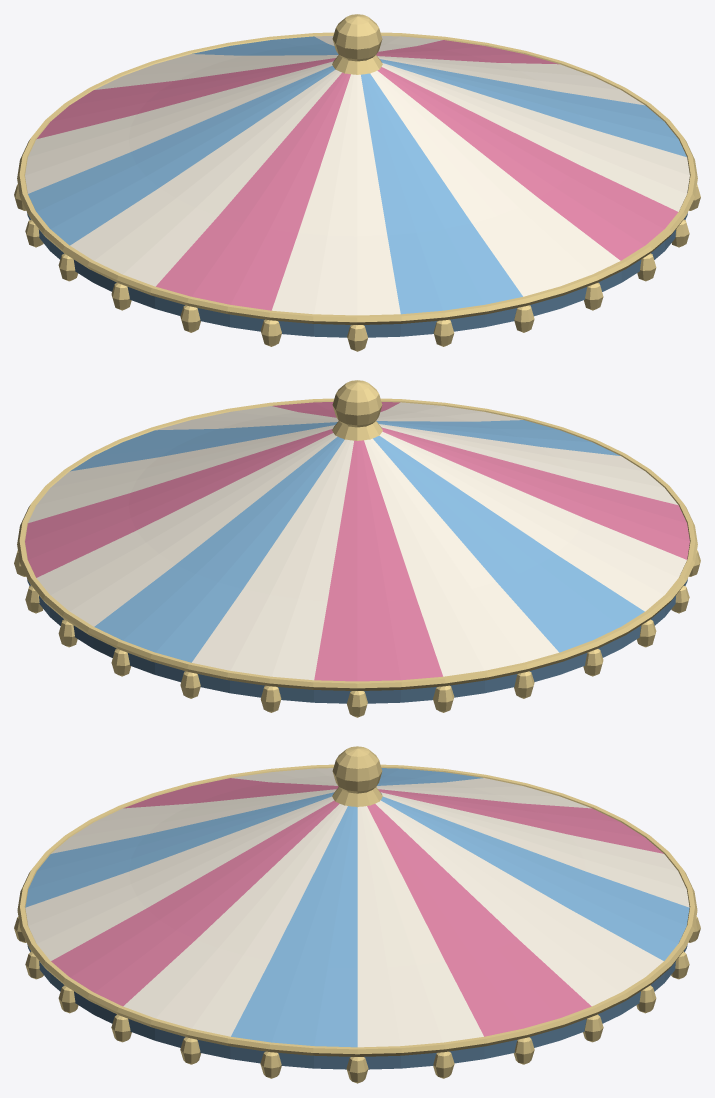
Rendered from carrusel_techo.glb.
3 renders of one model, top to bottom at view 1: azimuth 30°, elevation 25°; view 2: azimuth 150°, elevation 25°; view 3: azimuth 270°, elevation 25°, orthographic.
Visible parts, largest first — view 1: carrusel_techo; view 2: carrusel_techo; view 3: carrusel_techo.
Boxes of the visible parts, x1,y1,x2,y2 form: carrusel_techo: (14,14,700,351); carrusel_techo: (14,380,700,717); carrusel_techo: (14,746,700,1083).
Bounding box in the file's own units: 4.96 × 1.55 × 4.96.
